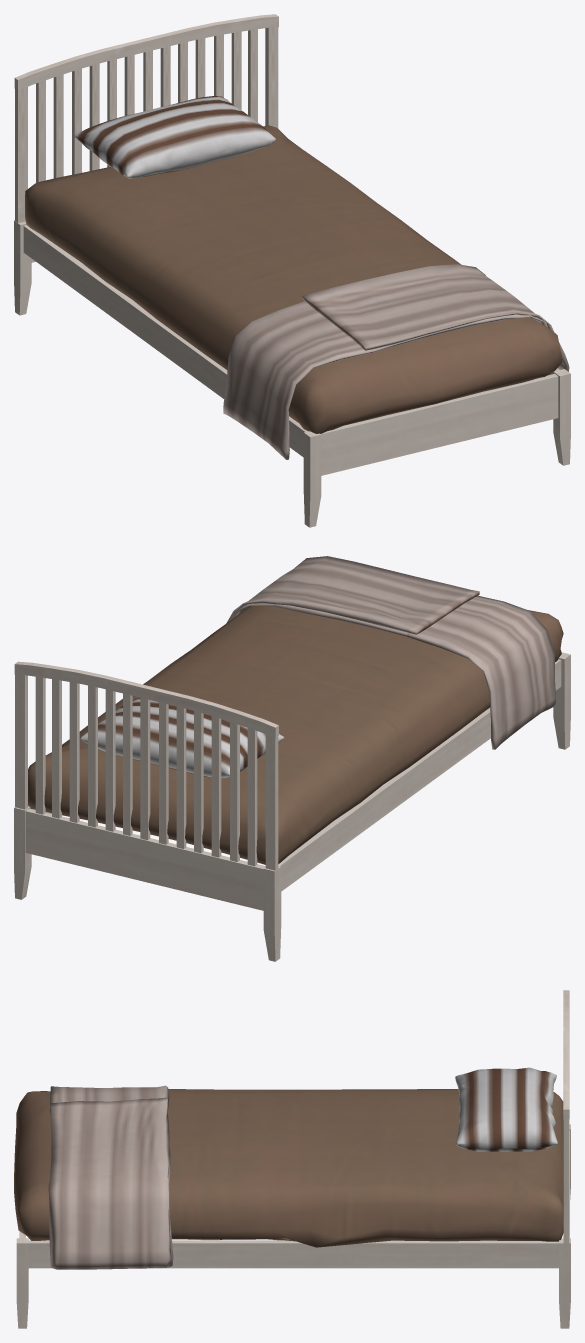
The model's file is Bed_Small.FBX.
3 renders of one model, top to bottom at view 1: azimuth 30°, elevation 25°; view 2: azimuth 150°, elevation 25°; view 3: azimuth 270°, elevation 25°, orthographic. The views are drawn at different scales.
Visible parts, largest first — view 1: Bed_Small, Pillow; view 2: Bed_Small, Pillow; view 3: Bed_Small, Pillow.
Part boxes in pixels (x1,y1,x2,y2): Bed_Small: (14,14,570,527); Pillow: (73,96,275,178); Bed_Small: (14,556,570,961); Pillow: (80,698,284,778); Bed_Small: (14,990,570,1328); Pillow: (455,1067,557,1151).
Size of the model in its own units: 115 by 91.99 by 205.
